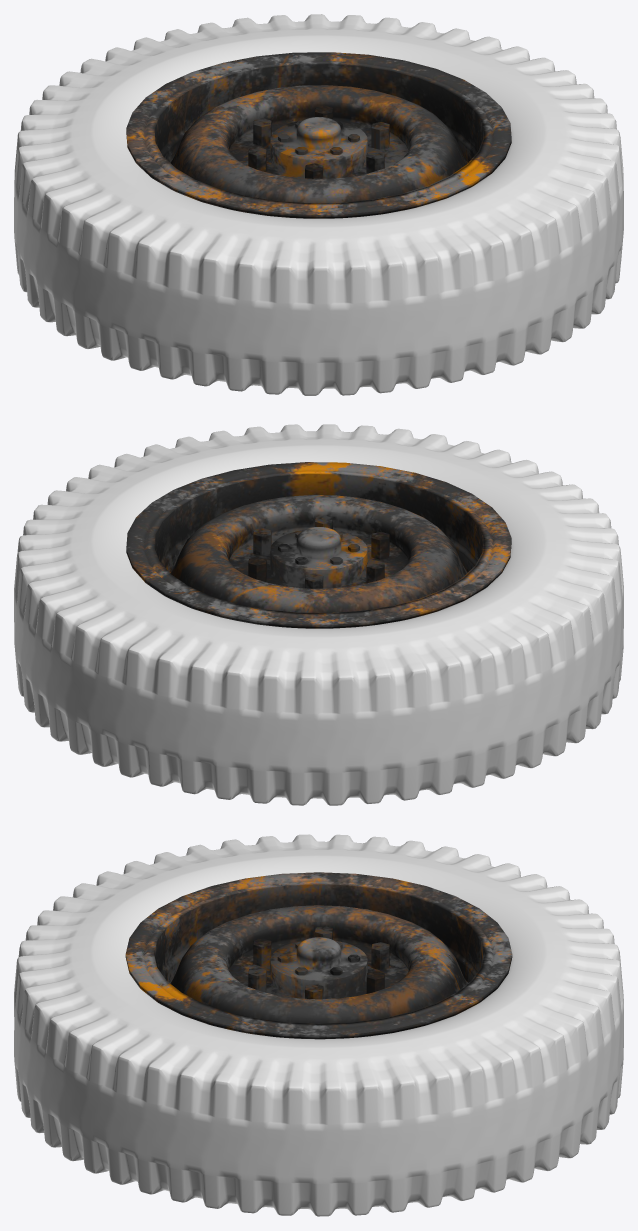
Rendered from Ban.fbx.
3 views of the same model, one above another, from view 1: azimuth 30°, elevation 25°; view 2: azimuth 150°, elevation 25°; view 3: azimuth 270°, elevation 25° (orthographic).
Visible parts, largest first — view 1: Circle; view 2: Circle; view 3: Circle.
Boxes of the visible parts, x1,y1,x2,y2 form: Circle: (14, 14, 623, 395); Circle: (14, 424, 623, 805); Circle: (14, 834, 623, 1216).
Size of the model in its own units: 89.27 by 26.18 by 89.21.
2 materials, 1 textured.
